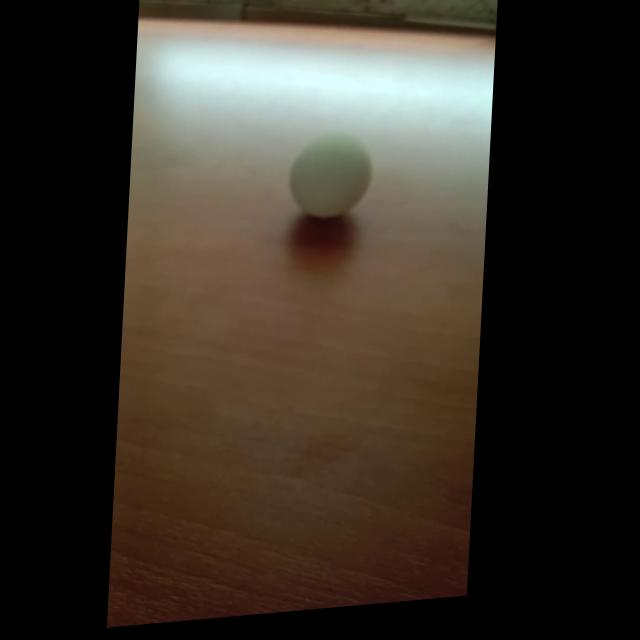white ball: (286, 128, 375, 221)
